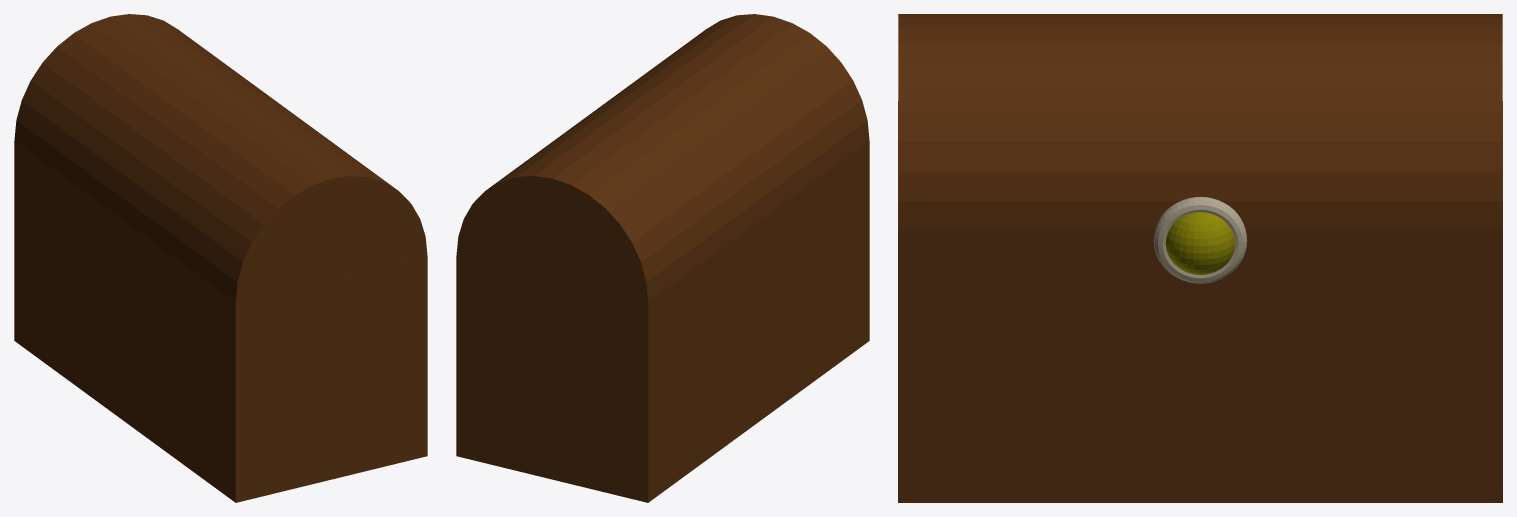
File: bdevil2_TreasureChest.fbx
3 renders of one model, left to right at view 1: azimuth 30°, elevation 25°; view 2: azimuth 150°, elevation 25°; view 3: azimuth 270°, elevation 25°, orthographic. The views are drawn at different scales.
Visible parts, largest first — view 1: Cube, Cylinder; view 2: Cube, Cylinder; view 3: Cube, Cylinder, Sphere, Torus.
Boxes of the visible parts, x1,y1,x2,y2 form: Cube: (14, 140, 427, 502); Cylinder: (14, 14, 427, 301); Cube: (456, 140, 869, 502); Cylinder: (456, 14, 869, 301); Cube: (898, 101, 1502, 502); Cylinder: (898, 14, 1502, 228); Sphere: (1165, 212, 1235, 274); Torus: (1153, 196, 1247, 283).
Size of the model in its own units: 220 by 300 by 400.
